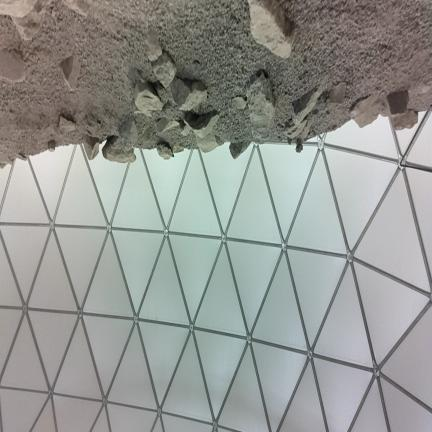Rock: (248, 0, 294, 58), (285, 77, 327, 139), (247, 70, 275, 142), (293, 77, 327, 124), (103, 116, 137, 162), (184, 110, 219, 152), (12, 0, 48, 40), (170, 77, 207, 110), (351, 94, 387, 127), (134, 82, 163, 116), (184, 110, 218, 137), (103, 136, 136, 162), (153, 52, 176, 88), (0, 49, 25, 82), (60, 56, 80, 92), (0, 0, 36, 17), (390, 110, 418, 130), (119, 116, 137, 146), (387, 91, 408, 115), (146, 30, 162, 61), (196, 132, 218, 152), (63, 0, 89, 16), (83, 136, 101, 159), (230, 141, 250, 159), (329, 82, 346, 103), (156, 118, 179, 133), (298, 119, 311, 140), (59, 116, 75, 133), (157, 143, 173, 159), (232, 97, 247, 110), (179, 120, 190, 136), (172, 143, 184, 153), (15, 152, 27, 160), (48, 140, 55, 151), (296, 143, 303, 152), (0, 162, 9, 169)
